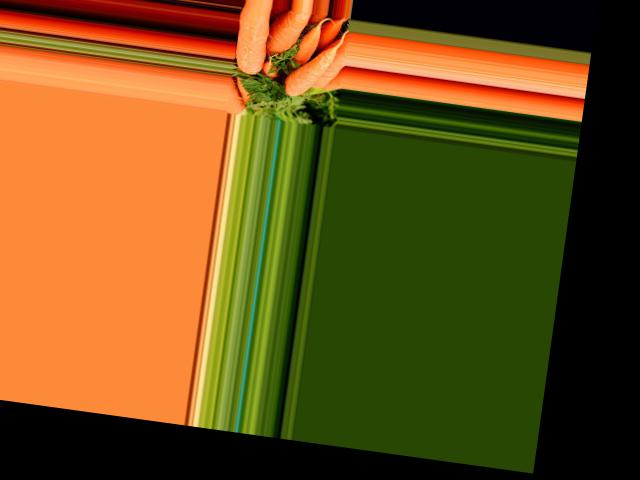carrot: (232, 3, 276, 79)
